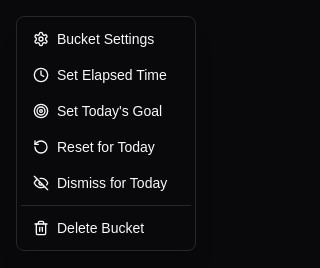
Test: BucketContextMenu › "Back" button returns to menu view
Click the menu item "Set Elapsed Time" at (106, 75), box x1=21 y1=57 x2=191 y2=93
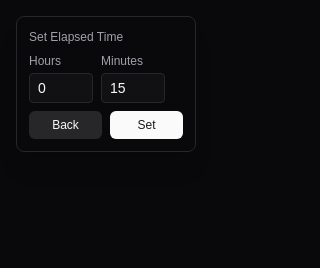
Check: the menu item "Bucket Settings" is gone
Click the button "Back" at (66, 125), box x1=29 y1=111 x2=102 y2=139
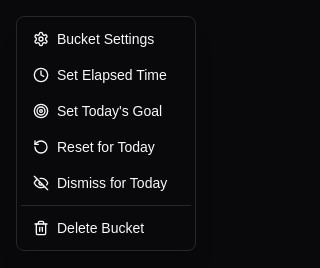
Check: the menu item "Bucket Settings" is shown, box x1=21 y1=21 x2=191 y2=57
